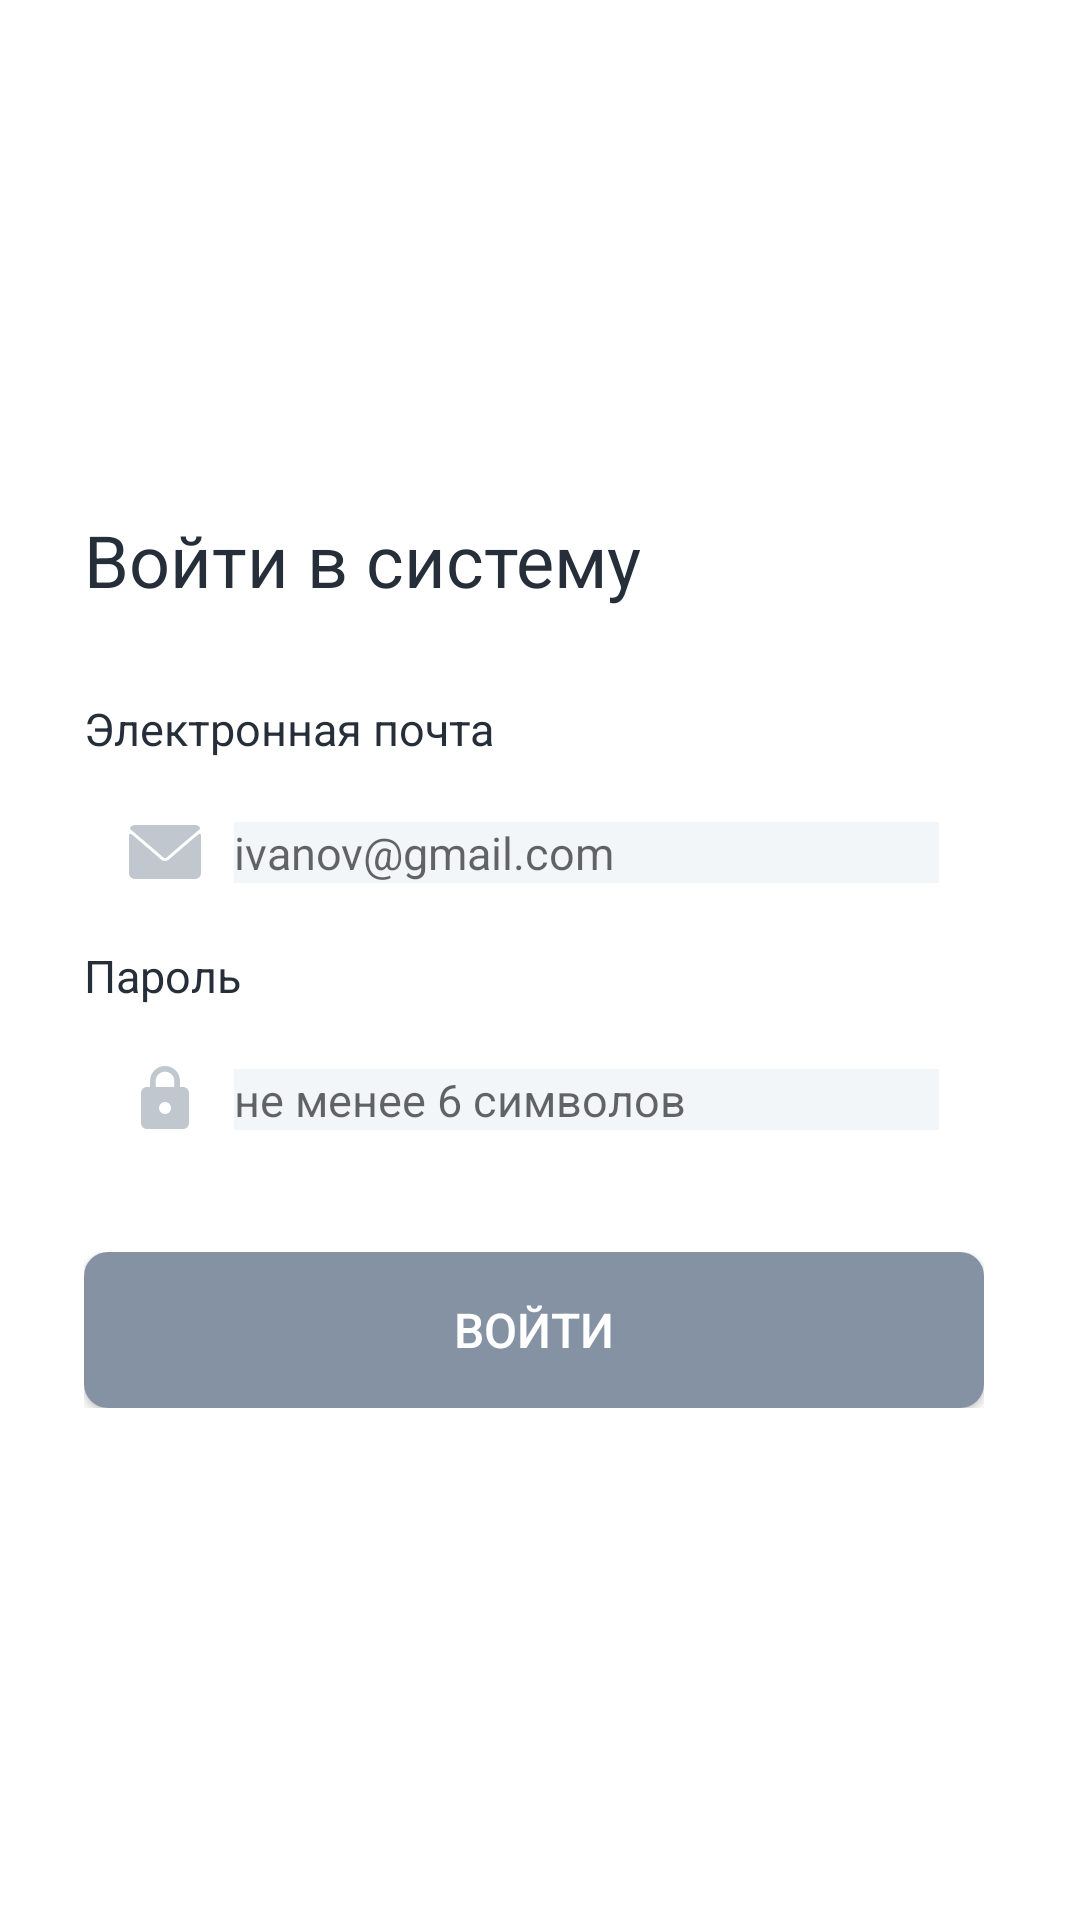

Where icons sit on this 1080×1920 app screen, as {"x1": x1, "y1": y1, "x2": x2, "y2": y2}:
lock: {"x1": 141, "y1": 1066, "x2": 189, "y2": 1129}
message: {"x1": 129, "y1": 825, "x2": 201, "y2": 879}
